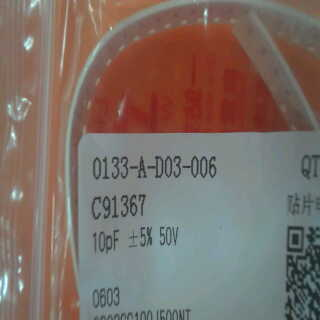10pF: (87, 219, 126, 256)
